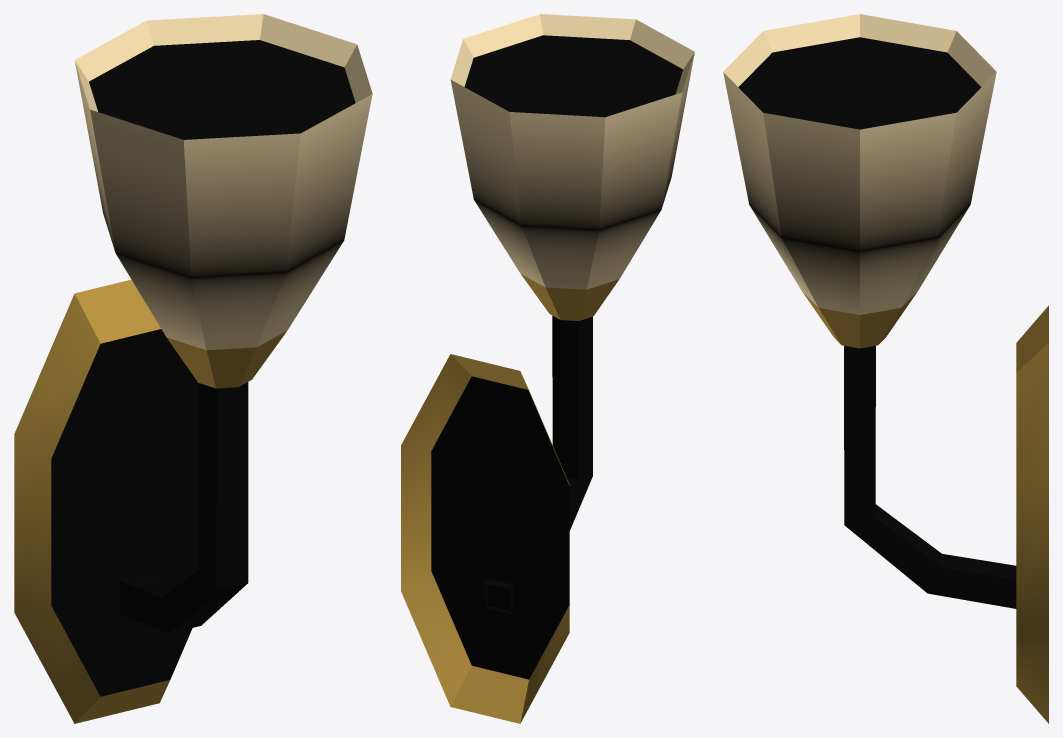
Rendered from sconce_tulip.glb.
3 views of the same model, side by side, from view 1: azimuth 30°, elevation 25°; view 2: azimuth 150°, elevation 25°; view 3: azimuth 270°, elevation 25° (orthographic). The views are drawn at different scales.
Parts seen in each view (by area): view 1: brass, sconce_glass; view 2: brass, sconce_glass; view 3: sconce_glass, brass.
Boxes of the visible parts, bbox=[...] form: brass: bbox=[14, 279, 286, 723]; sconce_glass: bbox=[74, 14, 372, 350]; brass: bbox=[401, 274, 619, 723]; sconce_glass: bbox=[450, 14, 694, 289]; sconce_glass: bbox=[723, 14, 996, 314]; brass: bbox=[801, 290, 1048, 723].
Size of the model in its own units: 0.084 by 0.2147 by 0.1.
